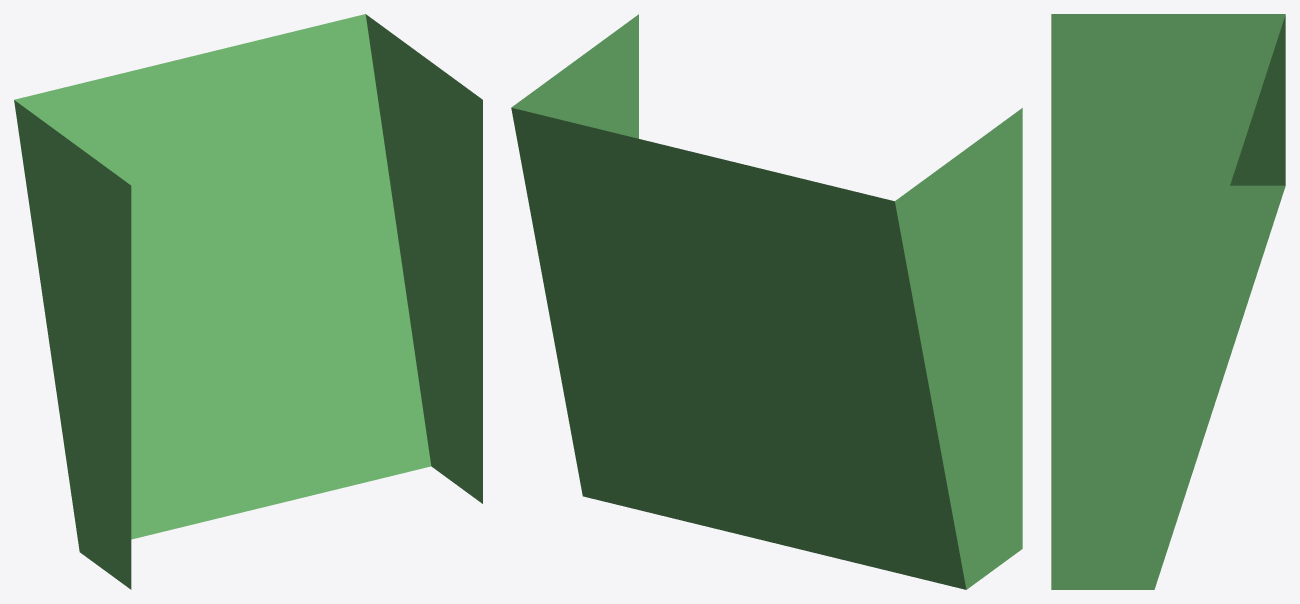
The model's file is DOSTAVKA_1.fbx.
3 renders of one model, left to right at view 1: azimuth 30°, elevation 25°; view 2: azimuth 150°, elevation 25°; view 3: azimuth 270°, elevation 25°, orthographic. The views are drawn at different scales.
Visible parts, largest first — view 1: DOSTAVKA_1_1; view 2: DOSTAVKA_1_1; view 3: DOSTAVKA_1_1.
Part boxes in pixels (x1=…): DOSTAVKA_1_1: x1=14, y1=14, x2=482, y2=589; DOSTAVKA_1_1: x1=511, y1=14, x2=1022, y2=589; DOSTAVKA_1_1: x1=1051, y1=14, x2=1285, y2=589.
Bounding box in the file's own units: 0.5252 × 0.5771 × 0.3034.
